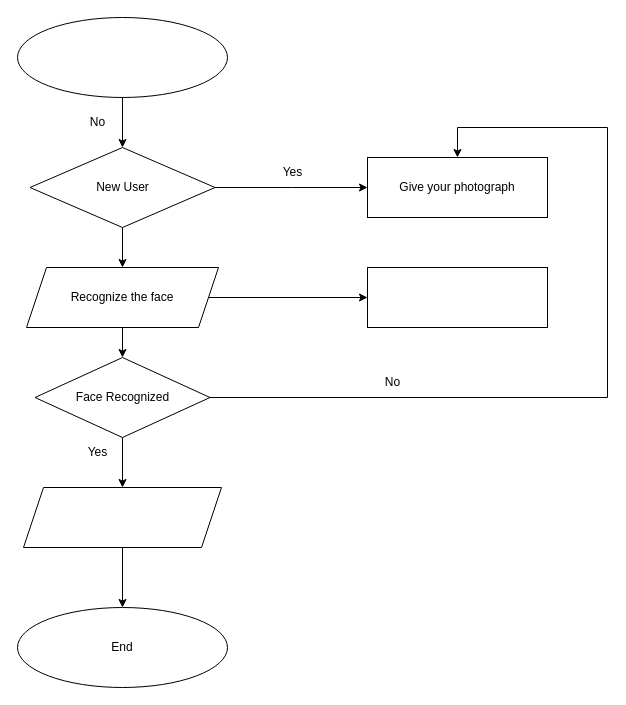
Some shapes in this 626 by 705 pixel diagram are drawn without their labels. Each missing label, with the centre of its shape:
"Start" goes at (x=122, y=57).
"stored in csv file with Registration Number & Data time of entry" goes at (x=122, y=517).
